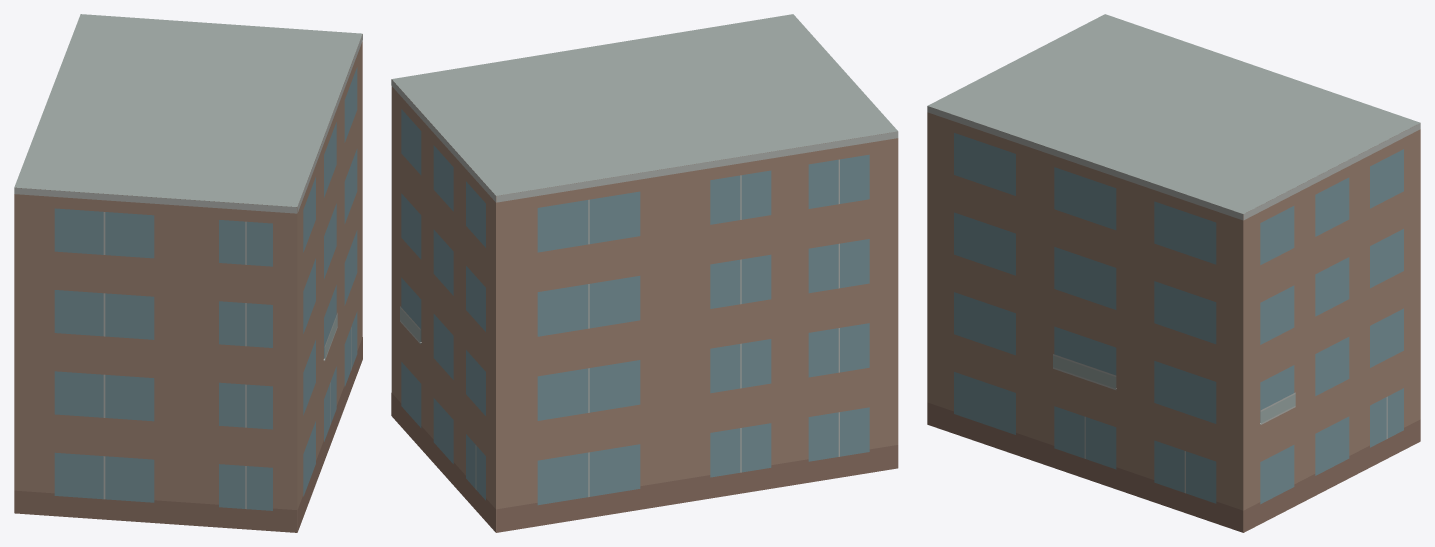
The model's file is survey-upis-32704687.glb.
3 views of the same model, side by side, from view 1: azimuth 30°, elevation 25°; view 2: azimuth 150°, elevation 25°; view 3: azimuth 270°, elevation 25° (orthographic). The views are drawn at different scales.
Visible parts, largest first — view 1: survey-upis-32704687.tmp; view 2: survey-upis-32704687.tmp; view 3: survey-upis-32704687.tmp.
Part boxes in pixels (<box>): survey-upis-32704687.tmp: <box>14,14,362,532</box>; survey-upis-32704687.tmp: <box>391,14,898,532</box>; survey-upis-32704687.tmp: <box>927,14,1420,532</box>.
Size of the model in its own units: 16.44 by 12.2 by 17.12.
